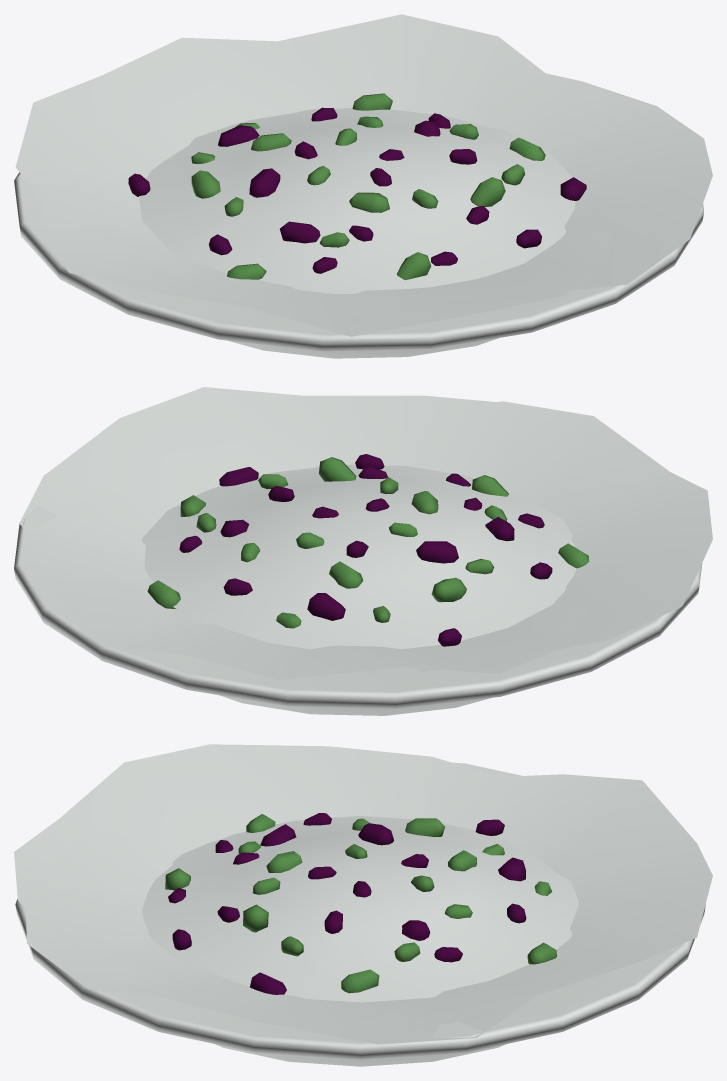
3 views of the same model, one above another, from view 1: azimuth 30°, elevation 25°; view 2: azimuth 150°, elevation 25°; view 3: azimuth 270°, elevation 25° (orthographic).
Parts seen in each view (by area): view 1: G:\FFXIV-MapTools\exports\y6f3\bg\ex5\02_ykt_y6\fld\y6f3\bgp (×4); view 2: G:\FFXIV-MapTools\exports\y6f3\bg\ex5\02_ykt_y6\fld\y6f3\bgp (×4); view 3: G:\FFXIV-MapTools\exports\y6f3\bg\ex5\02_ykt_y6\fld\y6f3\bgp (×4).
Part boxes in pixels (left/top/right/bottom): G:\FFXIV-MapTools\exports\y6f3\bg\ex5\02_ykt_y6\fld\y6f3\bgp (×4): left=14, top=14, right=712, bottom=358; G:\FFXIV-MapTools\exports\y6f3\bg\ex5\02_ykt_y6\fld\y6f3\bgp (×4): left=14, top=387, right=712, bottom=715; G:\FFXIV-MapTools\exports\y6f3\bg\ex5\02_ykt_y6\fld\y6f3\bgp (×4): left=14, top=744, right=712, bottom=1066.
Size of the model in its own units: 0.4385 by 0.0704 by 0.4354.
